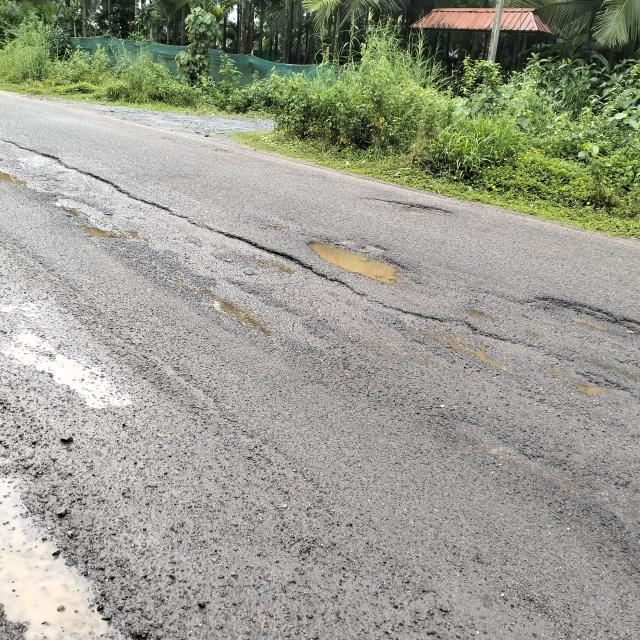pothole: (0, 449, 139, 640), (8, 319, 134, 410), (411, 288, 514, 368), (515, 282, 638, 346), (178, 275, 282, 349), (304, 228, 419, 290), (560, 363, 633, 412), (60, 204, 143, 243), (373, 200, 463, 224), (0, 155, 35, 200)
